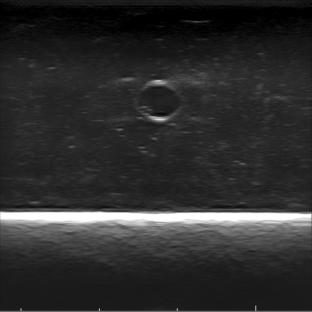vessel: (133, 78, 182, 123)
